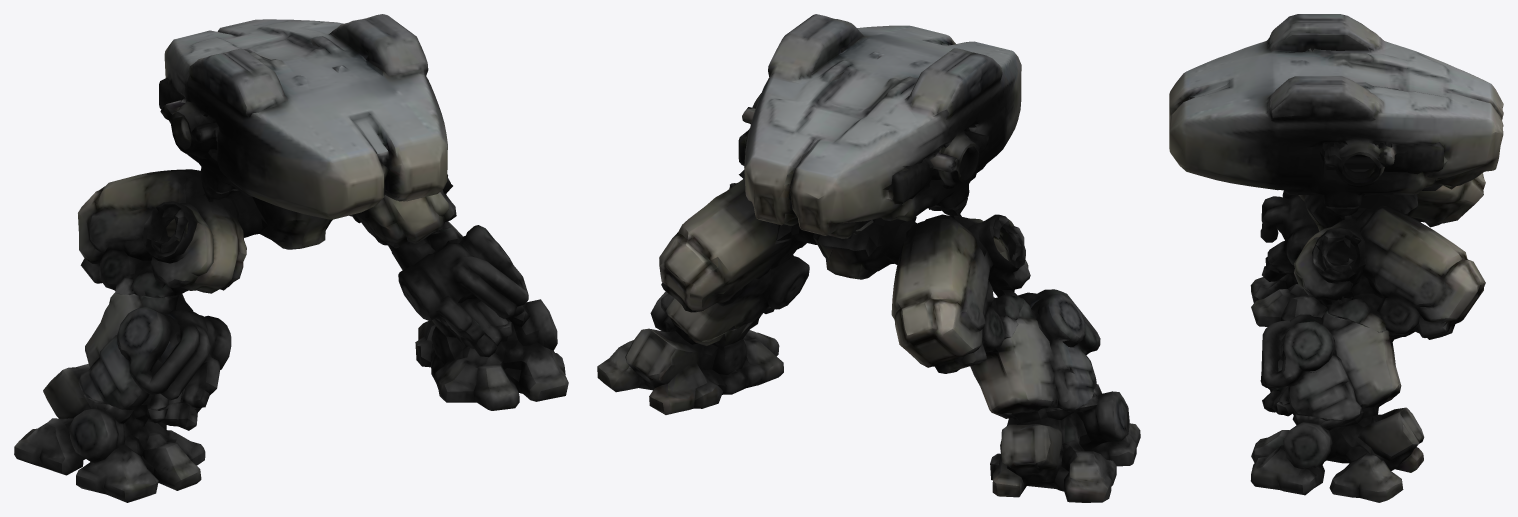
Rendered from heavy_26cbe_v2.glb.
3 views of the same model, side by side, from view 1: azimuth 30°, elevation 25°; view 2: azimuth 150°, elevation 25°; view 3: azimuth 270°, elevation 25° (orthographic). The views are drawn at different scales.
Parts seen in each view (by area): view 1: hull, thigh_l, foot_l, shin_l, foot_r, shin_r, thigh_r, pelvis; view 2: hull, thigh_l, foot_l, foot_r, shin_l, thigh_r, shin_r, pelvis; view 3: hull, thigh_r, foot_r, shin_r, shin_l, foot_l, thigh_l, pelvis.
Boxes of the visible parts, box(x1,y1,x2,y2) form: hull: box(159, 14, 447, 219); thigh_l: box(78, 169, 246, 297); foot_l: box(14, 363, 205, 502); shin_l: box(78, 288, 231, 410); foot_r: box(415, 299, 568, 410); shin_r: box(375, 221, 528, 341); thigh_r: box(349, 174, 456, 246); pelvis: box(224, 192, 332, 249); hull: box(738, 14, 1021, 238); thigh_l: box(891, 198, 1030, 373); foot_l: box(990, 384, 1140, 502); foot_r: box(597, 291, 783, 414); shin_l: box(948, 289, 1100, 414); thigh_r: box(659, 170, 806, 312); shin_r: box(660, 244, 809, 341); pelvis: box(776, 207, 930, 279); hull: box(1169, 14, 1503, 207); thigh_r: box(1294, 205, 1485, 337); foot_r: box(1250, 390, 1424, 502); shin_r: box(1260, 296, 1443, 420); shin_l: box(1260, 190, 1441, 271); foot_l: box(1250, 266, 1351, 326); thigh_l: box(1298, 173, 1485, 223); pelvis: box(1304, 184, 1455, 248).
Bounding box in the file's own units: 6.21 × 4.33 × 3.86.
1 material, 1 textured.
